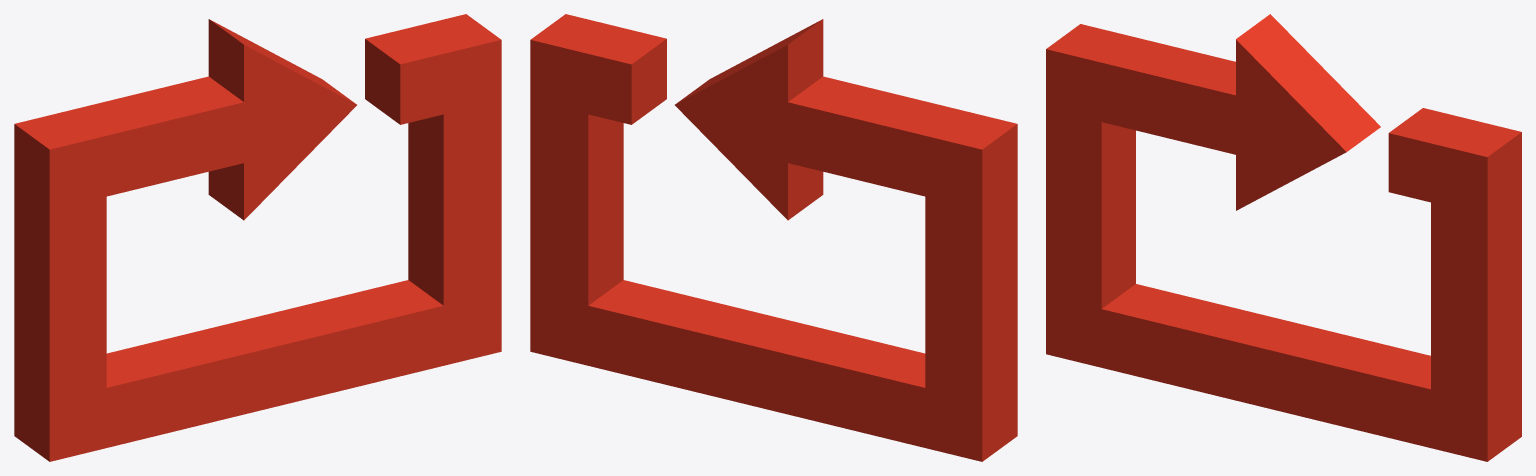
File: Icon_Arrow_13.fbx
3 renders of one model, left to right at view 1: azimuth 30°, elevation 25°; view 2: azimuth 150°, elevation 25°; view 3: azimuth 330°, elevation 25°, orthographic. The views are drawn at different scales.
Visible parts, largest first — view 1: Icon_Arrow_13; view 2: Icon_Arrow_13; view 3: Icon_Arrow_13.
Boxes of the visible parts, x1,y1,x2,y2 form: Icon_Arrow_13: (14,14,501,461); Icon_Arrow_13: (530,14,1017,461); Icon_Arrow_13: (1046,14,1521,461).
Bounding box in the file's own units: 89.24 × 69.81 × 12.06.
